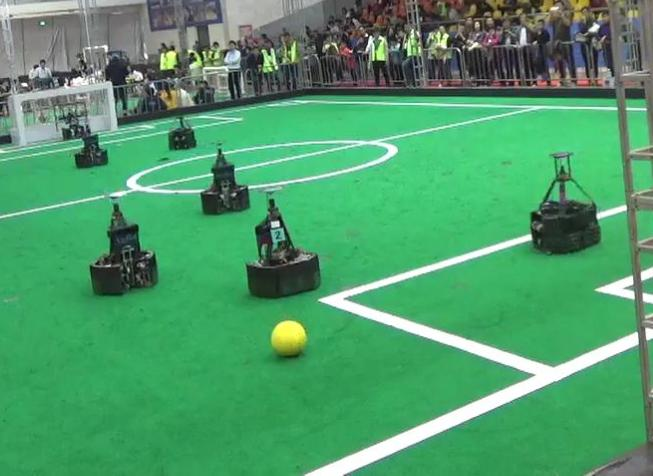robot: (241, 187, 323, 299), (525, 149, 605, 255), (84, 191, 159, 300), (199, 140, 251, 217)
